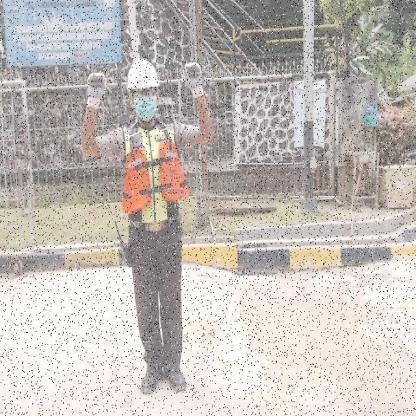boots: (138, 362, 164, 394), (164, 368, 189, 393)
gloves: (83, 70, 109, 108), (182, 60, 206, 98)
goggles: (134, 89, 158, 98)
helmet: (127, 58, 160, 89)
mask: (134, 100, 158, 122)
vest: (122, 137, 190, 214)
